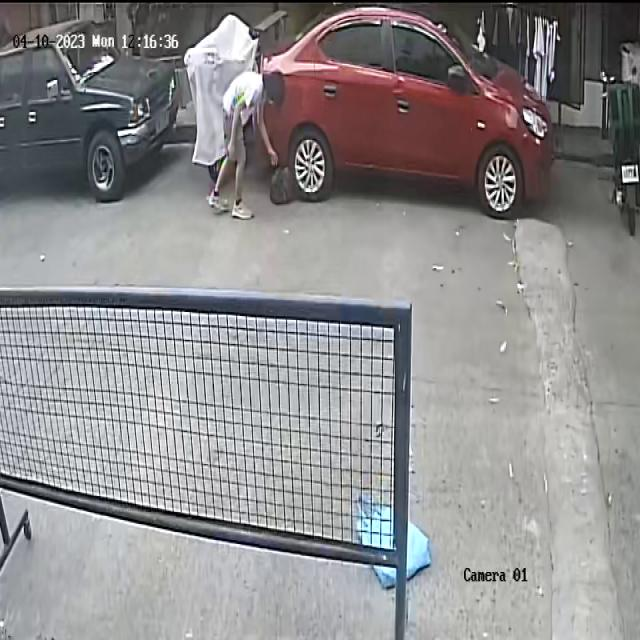human: (207, 68, 296, 222)
trash: (352, 476, 436, 586), (270, 163, 295, 210)
